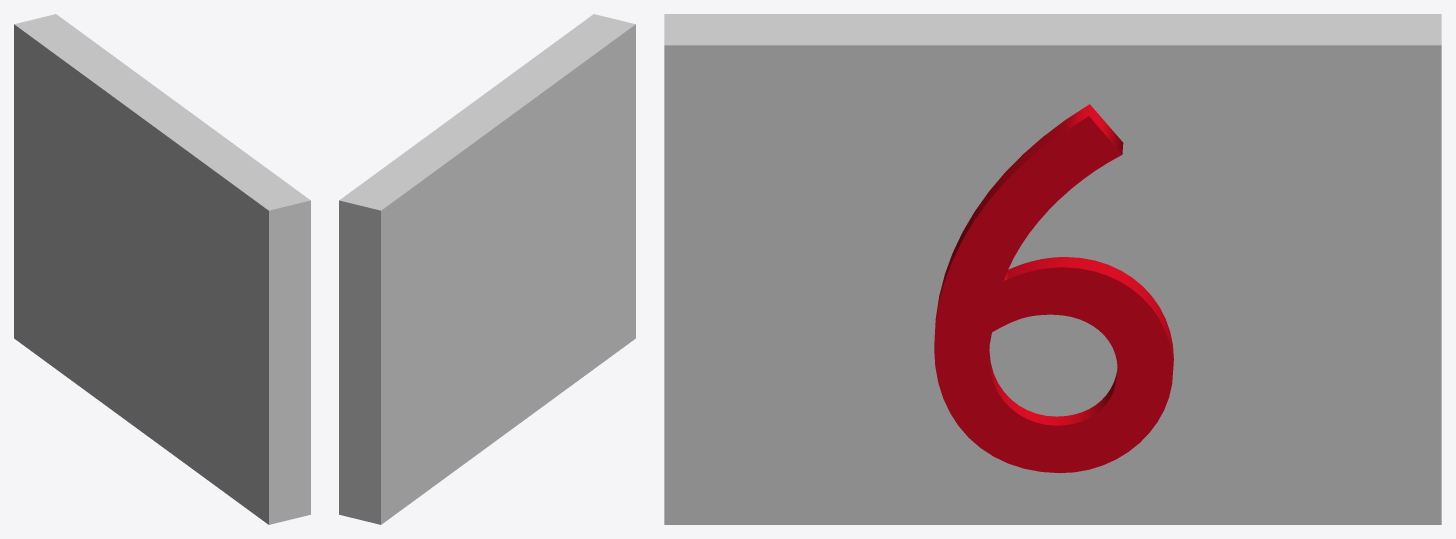
Rendered from row 6.fbx.
3 renders of one model, left to right at view 1: azimuth 30°, elevation 25°; view 2: azimuth 150°, elevation 25°; view 3: azimuth 270°, elevation 25°, orthographic. The views are drawn at different scales.
Visible parts, largest first — view 1: Cube; view 2: Cube; view 3: Cube, Text.
Boxes of the visible parts, left/top/right/bottom form: Cube: left=14, top=14, right=310, bottom=524; Cube: left=339, top=14, right=635, bottom=524; Cube: left=664, top=14, right=1441, bottom=524; Text: left=934, top=104, right=1173, bottom=473.
Bounding box in the file's own units: 40.81 × 212 × 312.
